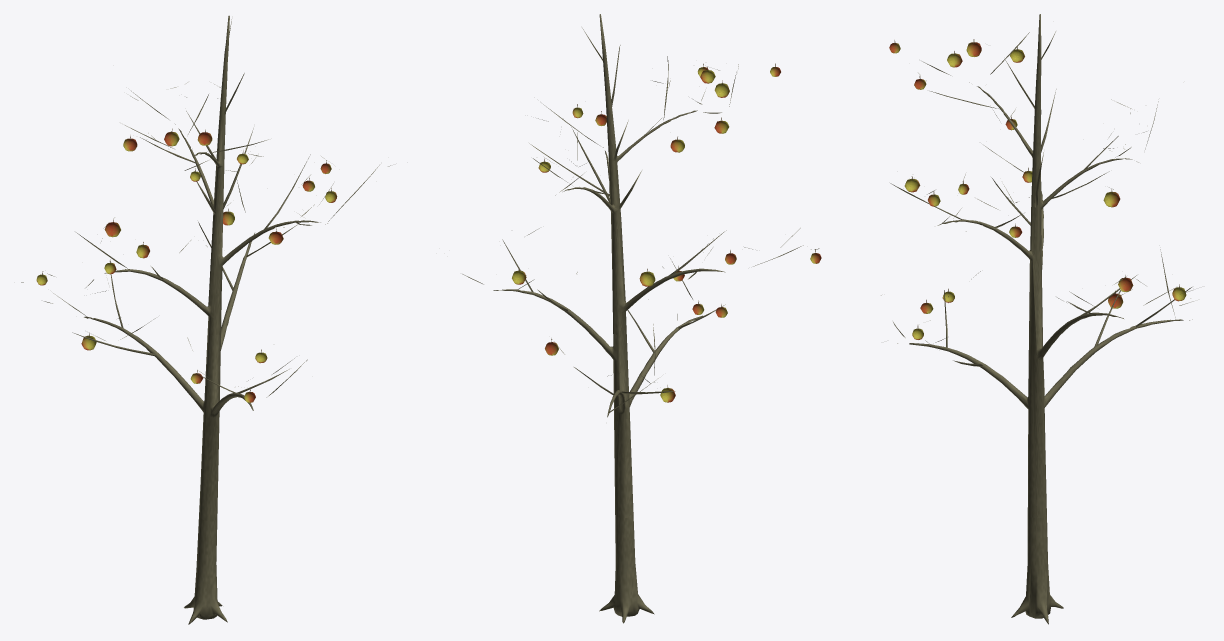
File: jablon_6_daleko.glb
The picture shows the model from 3 angles, left to right: view 1: azimuth 30°, elevation 25°; view 2: azimuth 150°, elevation 25°; view 3: azimuth 270°, elevation 25°; orthographic projection. The views are drawn at different scales.
Visible parts, largest first — view 1: 01_Young_trunk_and_branches.008, 05_Apples.008, 02_Young_twigs.008; view 2: 01_Young_trunk_and_branches.008, 05_Apples.008, 02_Young_twigs.008; view 3: 01_Young_trunk_and_branches.008, 05_Apples.008, 02_Young_twigs.008.
Part boxes in pixels (x1,y1,x2,y2): 01_Young_trunk_and_branches.008: (84, 15, 327, 624); 05_Apples.008: (36, 131, 337, 402); 02_Young_twigs.008: (21, 19, 390, 397); 01_Young_trunk_and_branches.008: (493, 14, 725, 623); 05_Apples.008: (512, 66, 821, 402); 02_Young_twigs.008: (462, 28, 819, 413); 01_Young_trunk_and_branches.008: (897, 14, 1192, 624); 05_Apples.008: (889, 42, 1186, 339); 02_Young_twigs.008: (881, 31, 1193, 366).
Size of what is drawn, in the model's own units: 1.7 by 2.91 by 1.5.
Materials: 3 (2 with a texture image).
